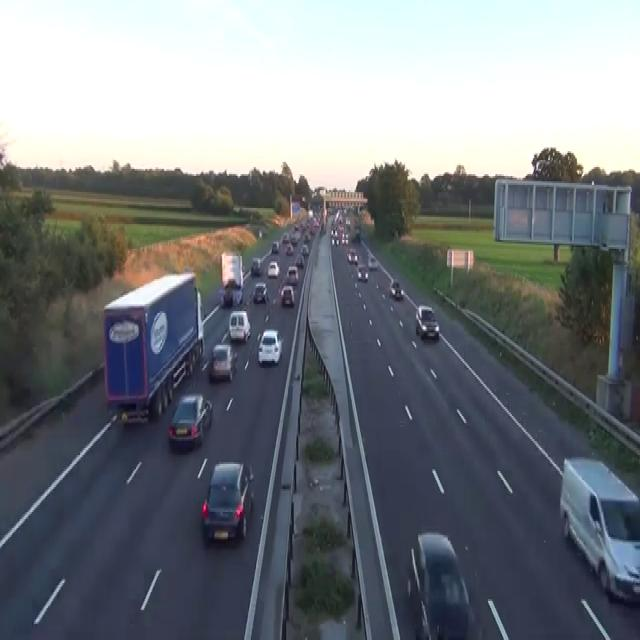Car: (406, 530, 470, 638), (201, 460, 254, 542), (167, 393, 212, 446), (208, 343, 237, 382), (257, 329, 282, 364), (415, 304, 439, 340), (228, 309, 251, 342), (220, 281, 243, 306), (280, 284, 294, 306), (253, 281, 267, 302), (390, 279, 403, 299), (286, 265, 298, 284), (222, 286, 233, 306), (267, 260, 279, 278), (251, 256, 261, 276), (357, 263, 368, 281), (347, 247, 358, 263), (295, 252, 304, 266), (331, 231, 339, 245), (368, 256, 377, 268), (300, 244, 309, 256), (354, 226, 361, 240), (271, 240, 279, 252), (285, 244, 293, 256), (282, 231, 289, 244), (327, 205, 336, 215), (272, 215, 280, 226), (290, 233, 298, 243), (312, 215, 319, 226), (303, 231, 310, 242), (232, 204, 240, 213), (331, 228, 338, 238), (341, 233, 348, 243), (309, 224, 315, 235), (308, 208, 313, 219), (241, 263, 245, 276), (345, 217, 350, 227), (258, 228, 262, 238), (294, 224, 299, 231)
Truck: (102, 268, 204, 425), (559, 455, 639, 605), (220, 250, 244, 306)
